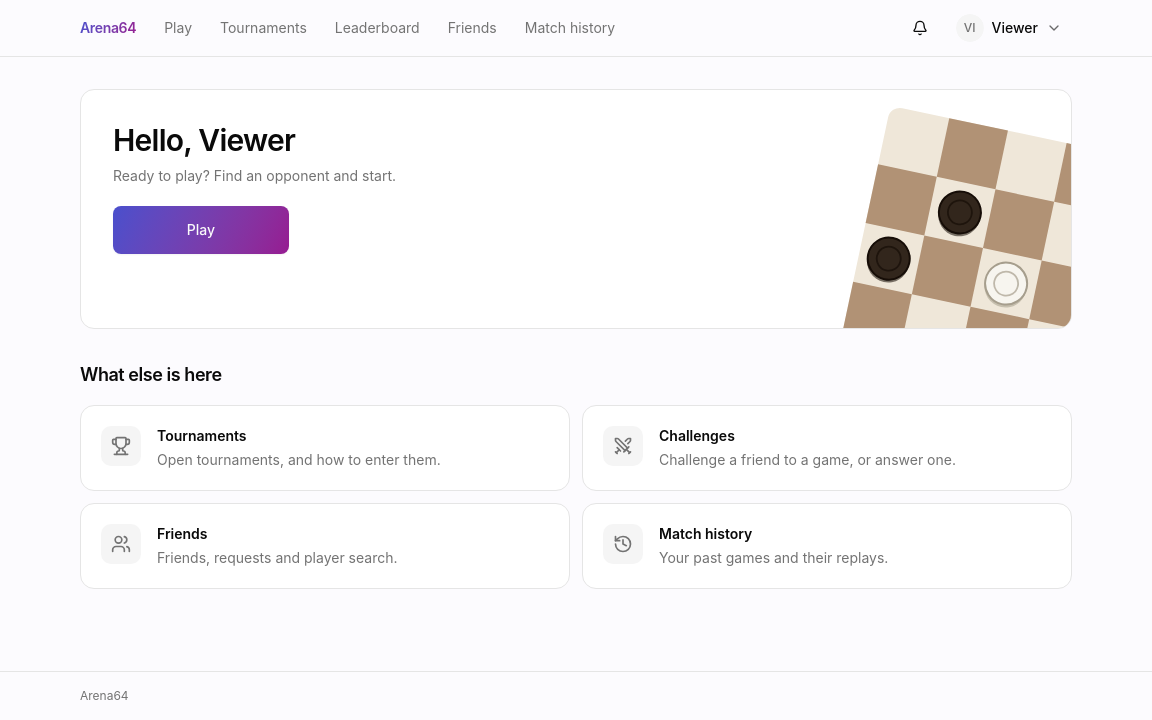
Test: starts the one socket when a session exists, and mints a fresh ticket
Step 1. Click the button "VI Viewer" → (1009, 28), box [946, 6, 1072, 50]
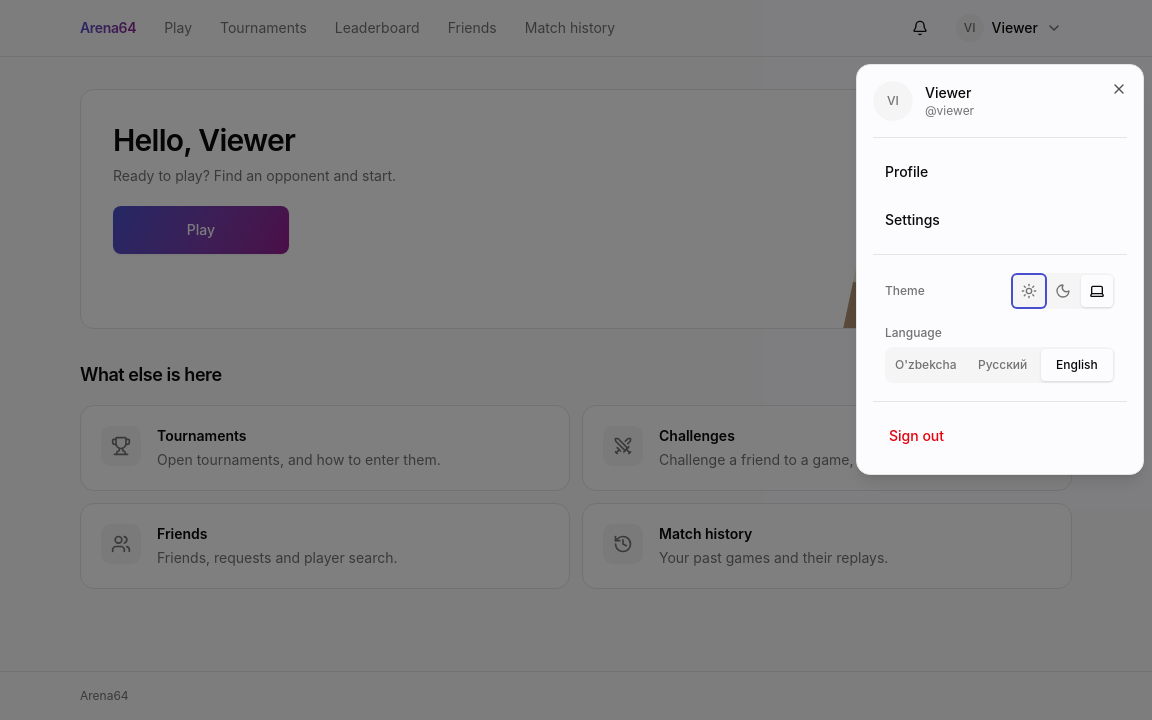
Now the button "Sign out" is shown, box [873, 414, 1127, 458]
